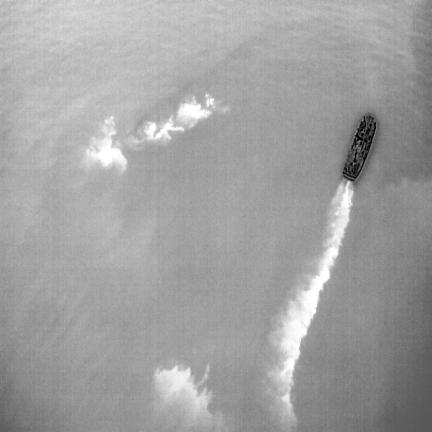flukeprints: (86, 116, 126, 171), (127, 115, 184, 148), (176, 99, 211, 127), (206, 94, 214, 107)
